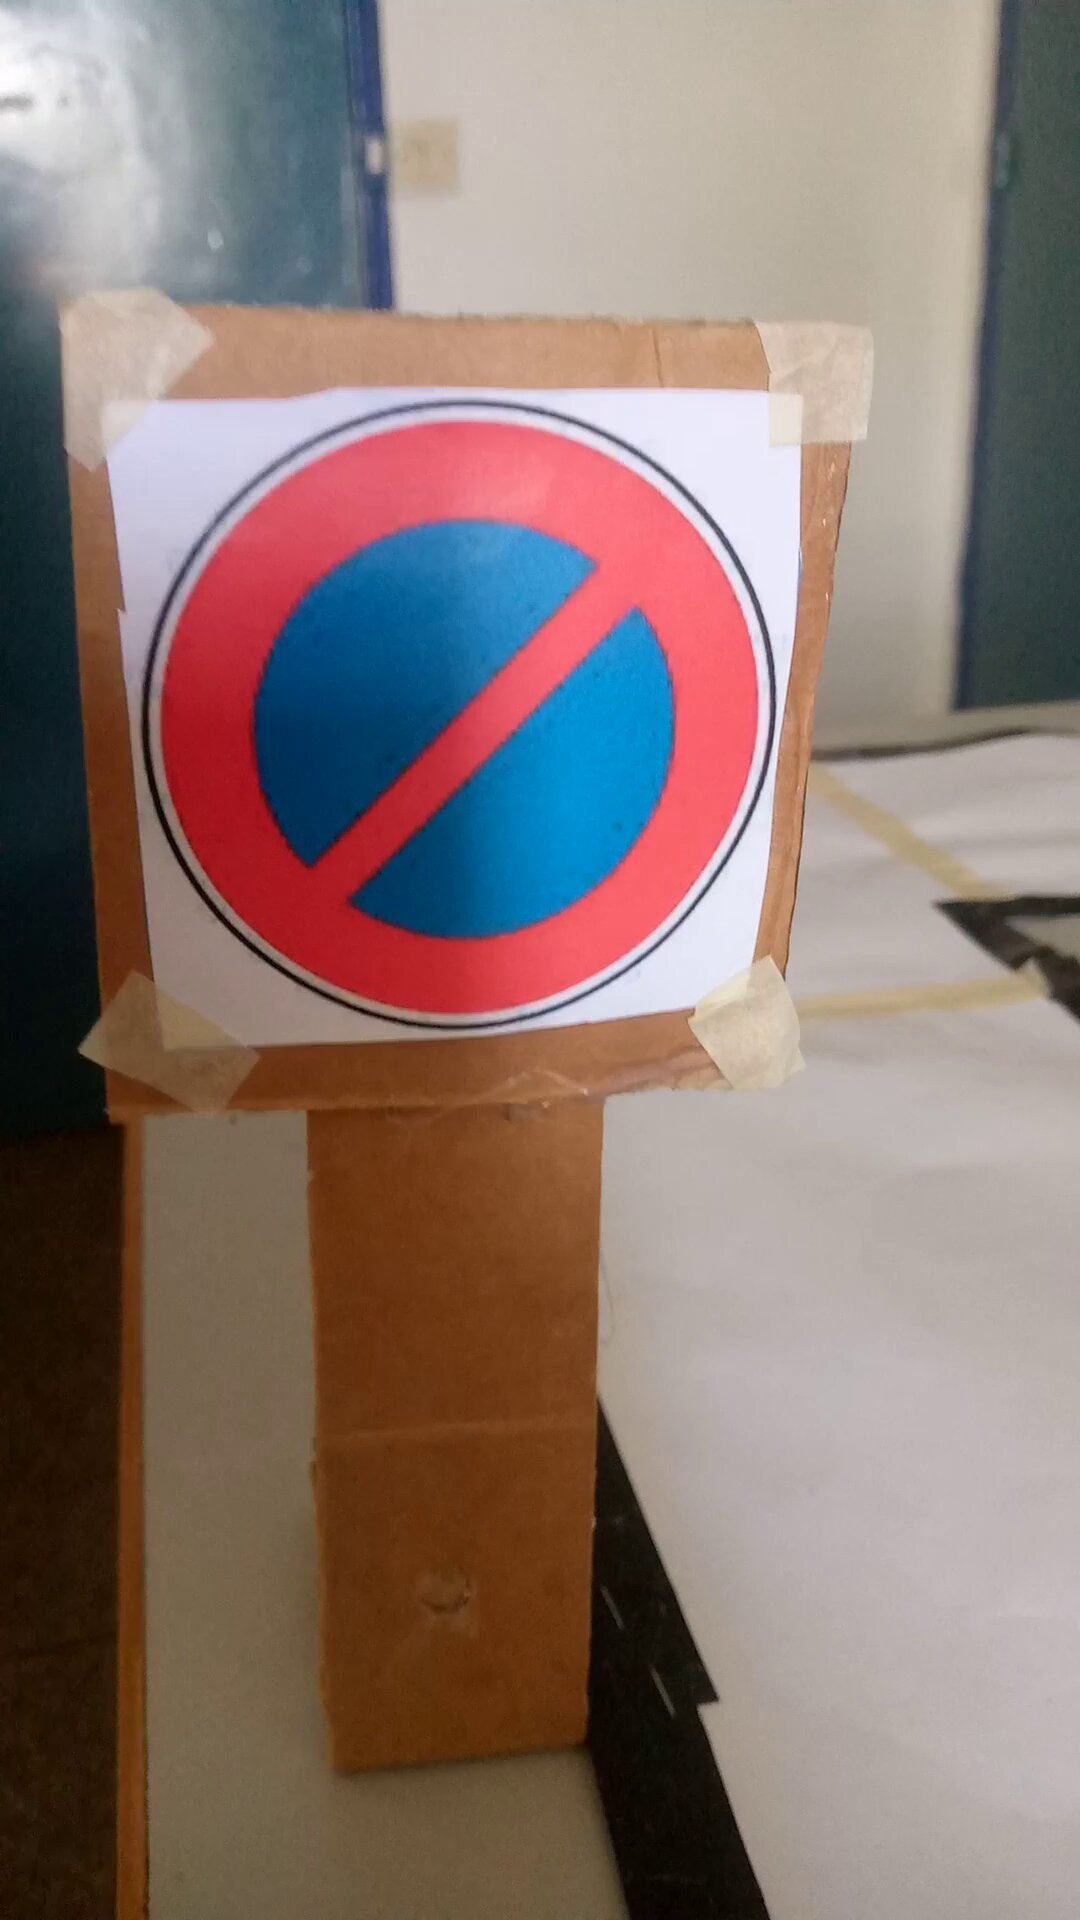panel110: (80, 382, 790, 1036)
